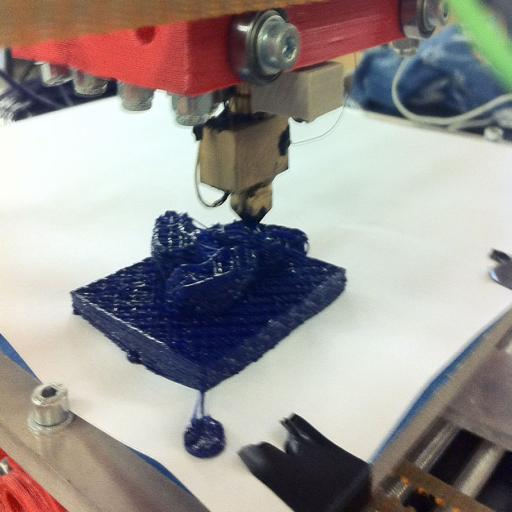spaghetti: (152, 209, 279, 268)
